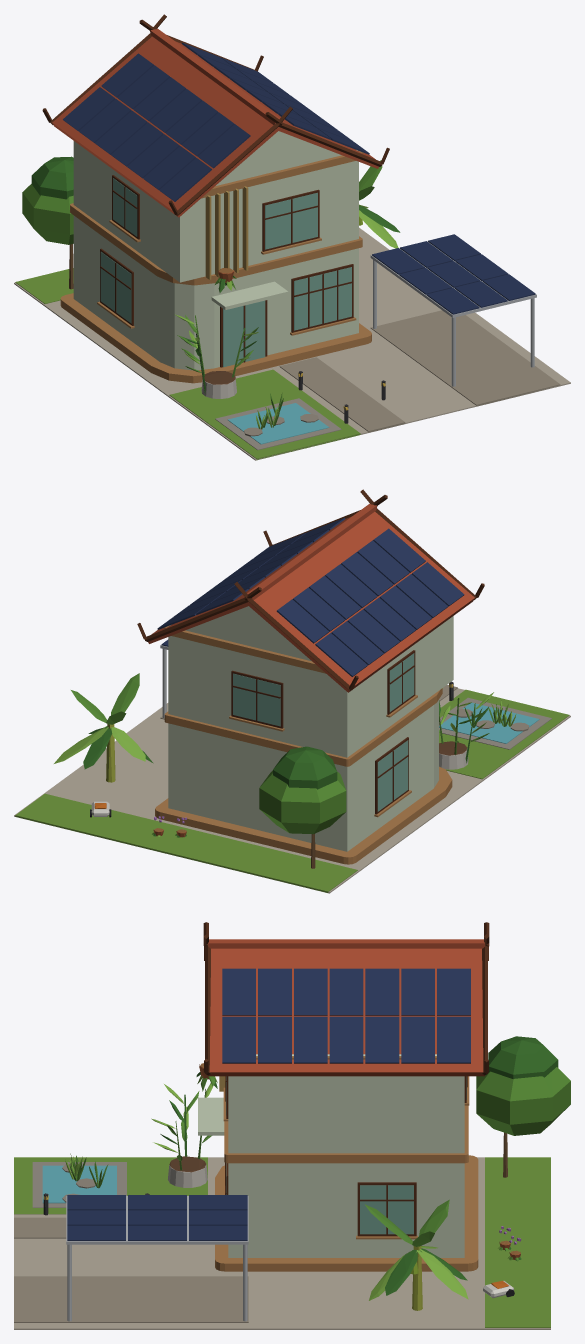
The model's file is house12_1.glb.
3 views of the same model, one above another, from view 1: azimuth 30°, elevation 25°; view 2: azimuth 150°, elevation 25°; view 3: azimuth 270°, elevation 25° (orthographic). The views are drawn at different scales.
Parts seen in each view (by area): view 1: body; view 2: body; view 3: body.
Boxes of the visible parts, box(x1,y1,x2,y2) form: body: box(14, 14, 570, 460); body: box(14, 489, 570, 893); body: box(14, 922, 570, 1329).
Bounding box in the file's own units: 12.01 × 9.71 × 16.5.
